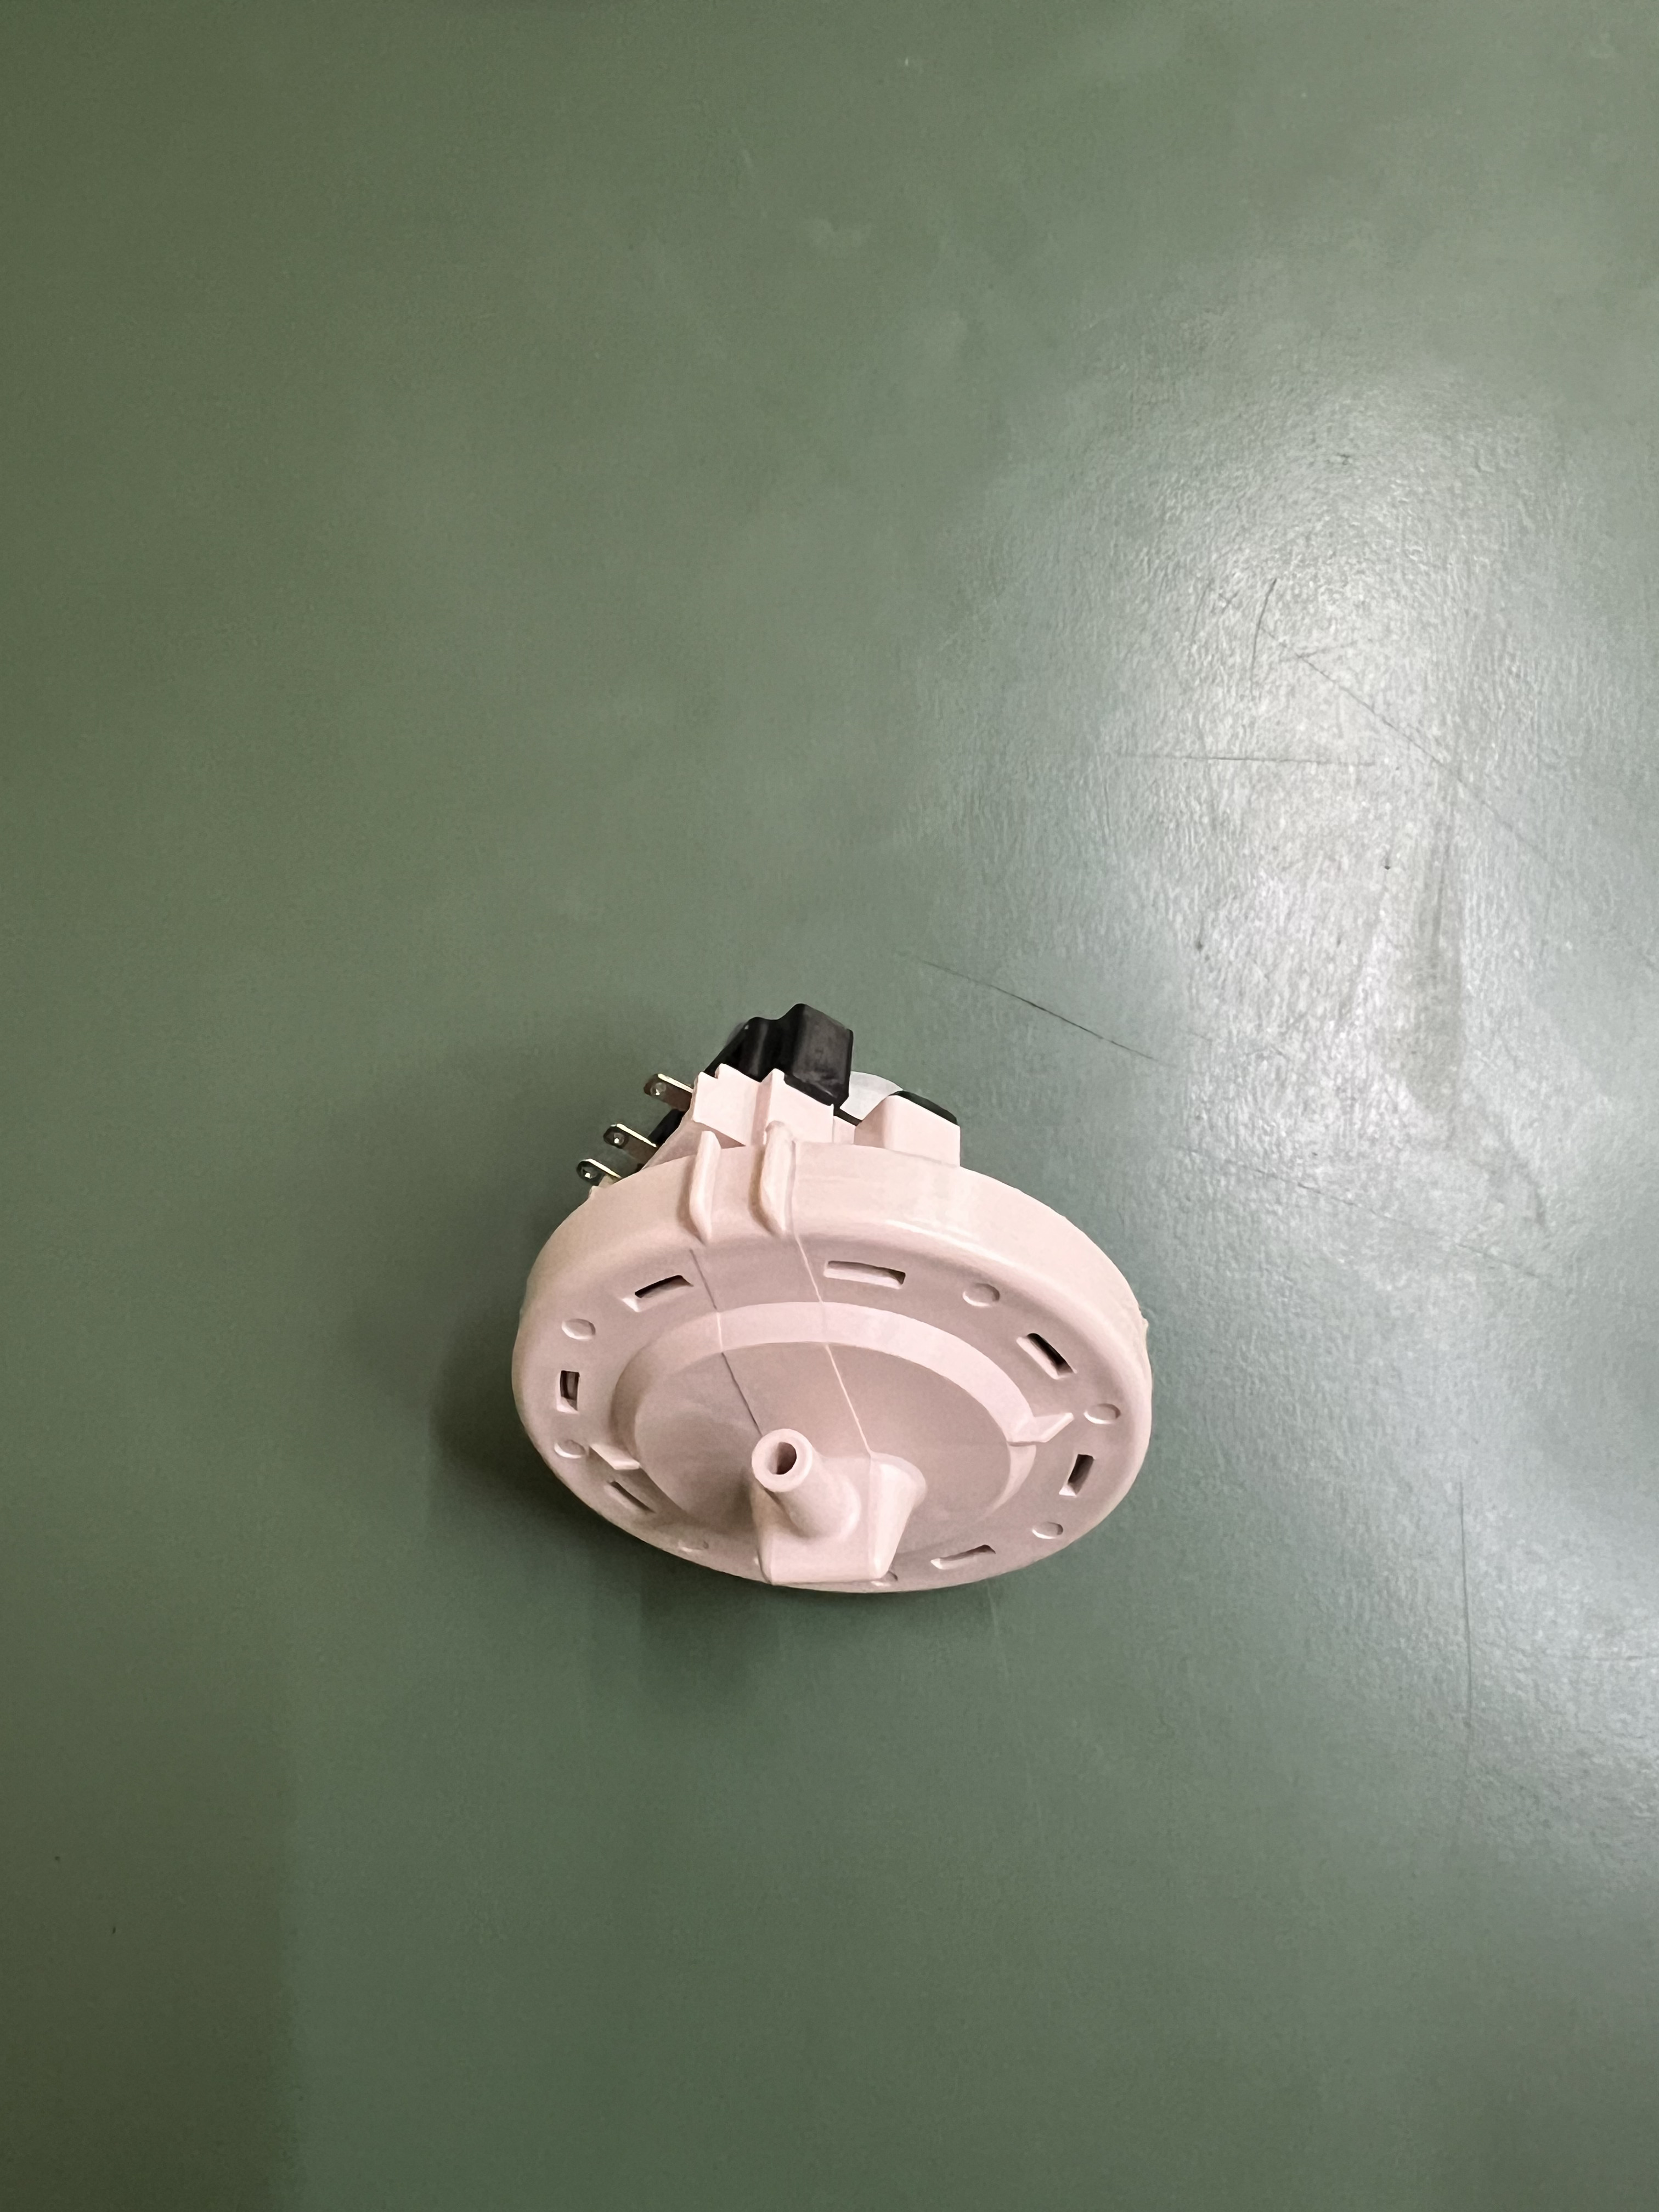pressure_sensor: (498, 1024, 1213, 1630)
